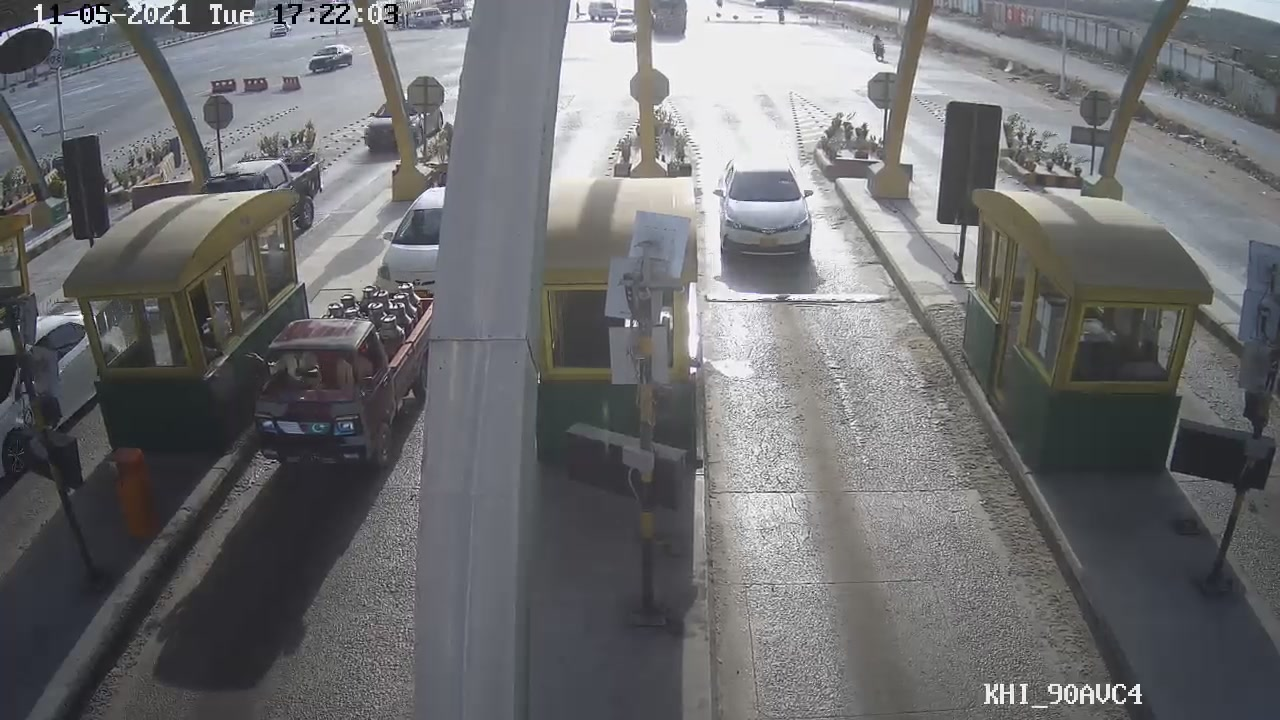F1: (703, 149, 834, 272)
